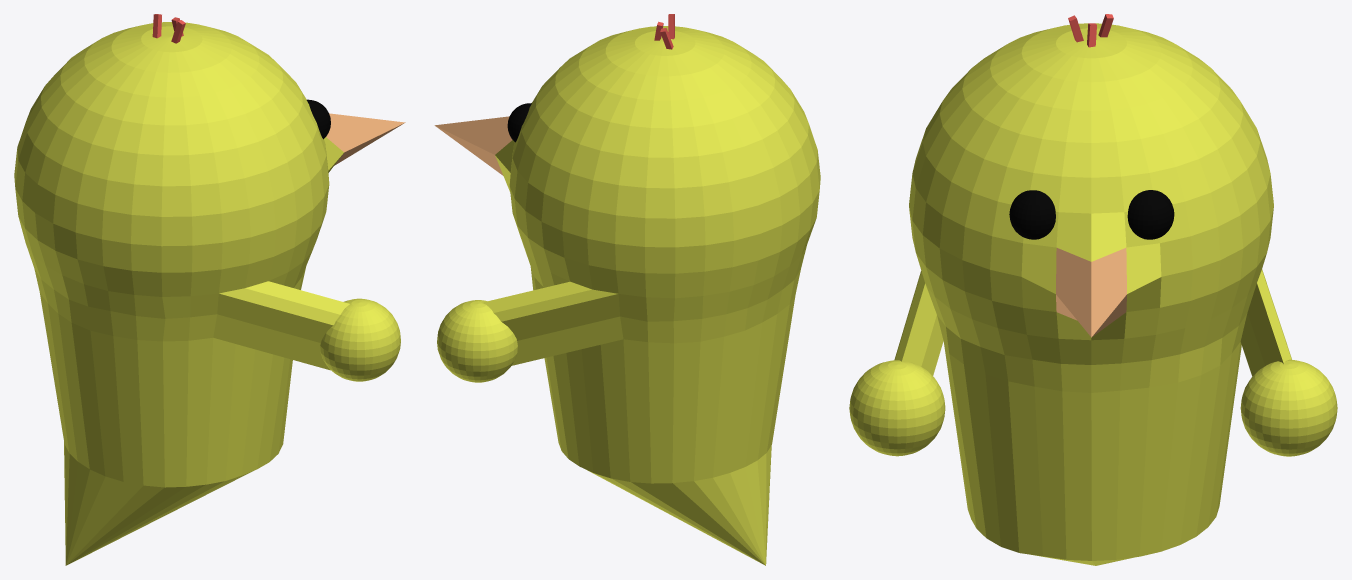
File: Poussin plus petit.fbx
The picture shows the model from 3 angles, left to right: view 1: azimuth 30°, elevation 25°; view 2: azimuth 150°, elevation 25°; view 3: azimuth 270°, elevation 25°; orthographic projection. The views are drawn at different scales.
Parts seen in each view (by area): view 1: Theodore; view 2: Theodore; view 3: Theodore.
Part boxes in pixels (bbox=[...]): Theodore: bbox=[14, 14, 405, 565]; Theodore: bbox=[434, 14, 820, 565]; Theodore: bbox=[849, 14, 1337, 565].
Size of the model in its own units: 271 by 368 by 267.
